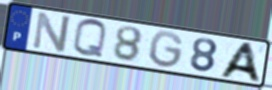8: (111, 26, 145, 63), (190, 37, 220, 74)
A: (216, 41, 263, 84)
G: (148, 29, 186, 70)
N: (30, 10, 73, 54)
Q: (71, 18, 109, 60)
